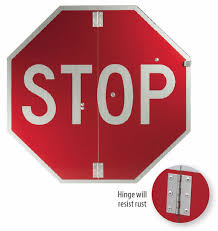SS: (5, 6, 193, 184)
